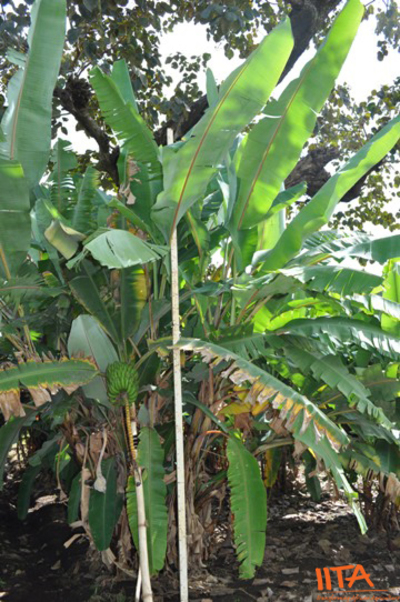bananaHand: (105, 359, 144, 408)
